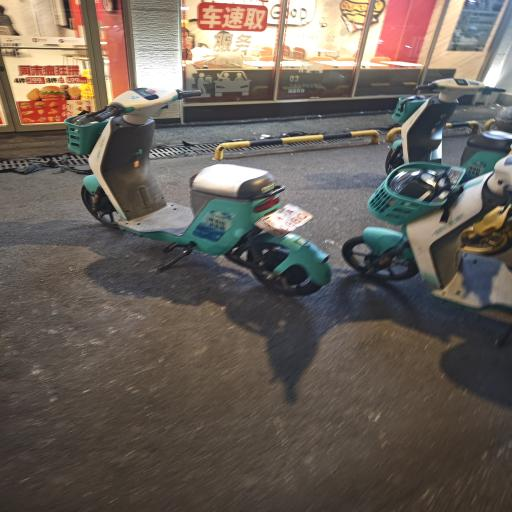car: (171, 98, 512, 321), (190, 59, 512, 236), (35, 48, 97, 193)
